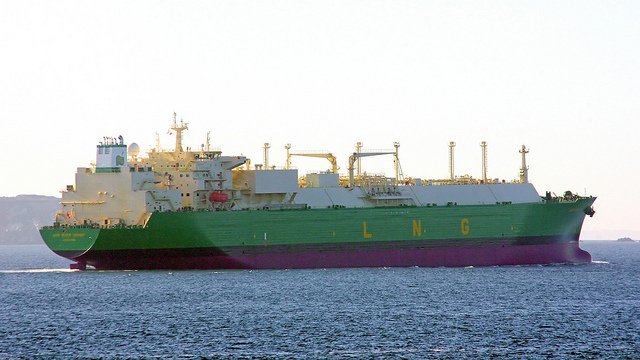LNG_ship: (39, 116, 607, 268)
